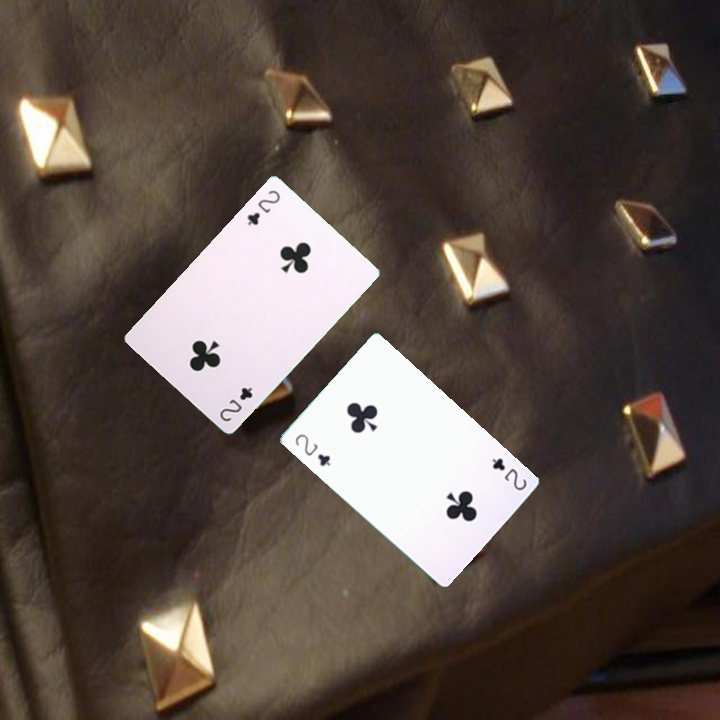2c: (243, 186, 283, 228), (487, 454, 530, 493), (215, 383, 255, 424), (291, 430, 333, 469)
